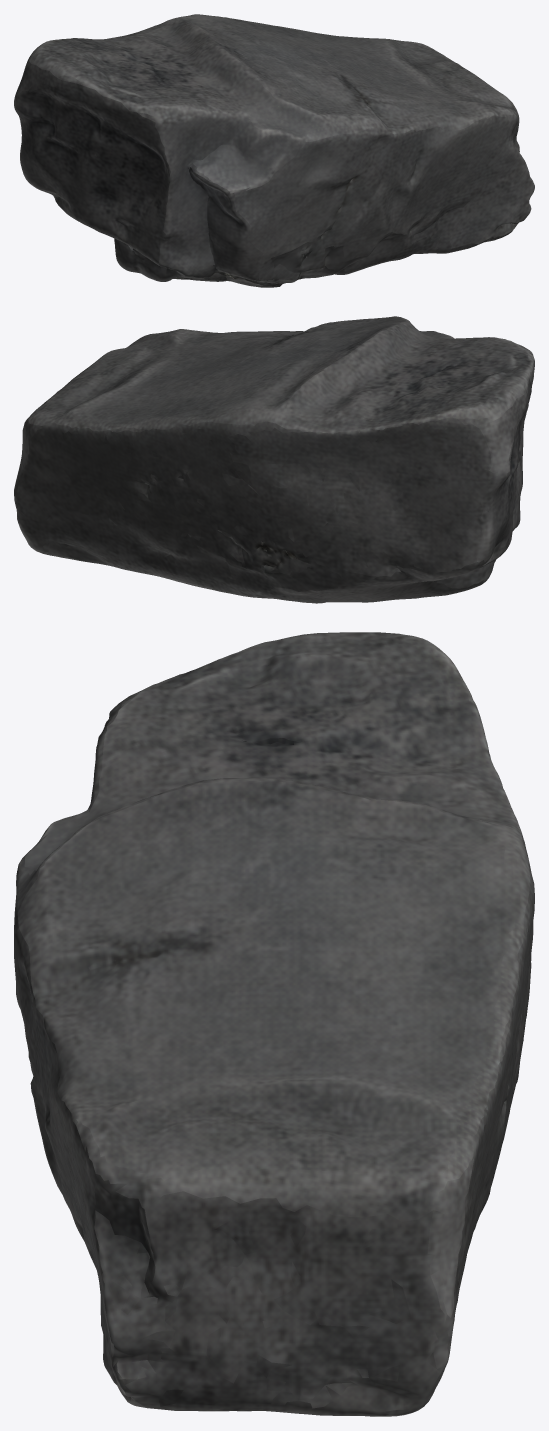
3 renders of one model, top to bottom at view 1: azimuth 30°, elevation 25°; view 2: azimuth 150°, elevation 25°; view 3: azimuth 270°, elevation 25°, orthographic. The views are drawn at different scales.
Parts seen in each view (by area): view 1: world; view 2: world; view 3: world.
Part boxes in pixels (<box>): world: <box>14,14,534,287</box>; world: <box>14,316,534,603</box>; world: <box>14,632,534,1416</box>.
Size of the model in its own units: 3.5 by 1.76 by 1.96.
Materials: 1 (1 with a texture image).
